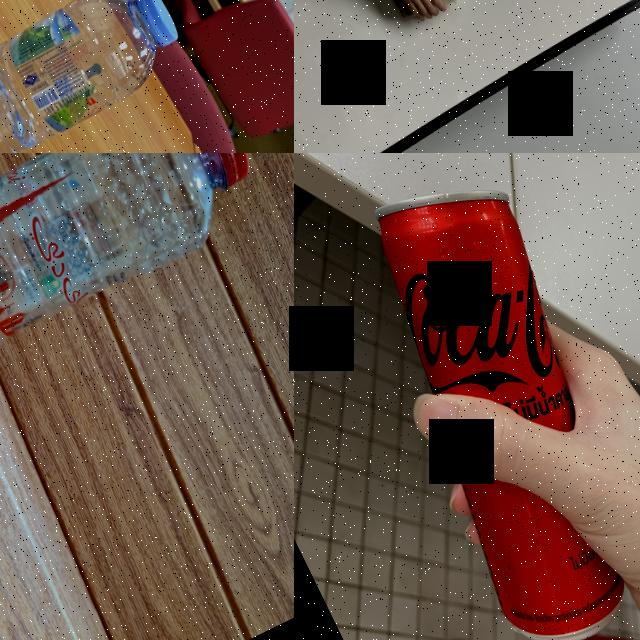bottle: (0, 153, 287, 413), (0, 0, 197, 153)
can: (311, 153, 640, 640)
cup: (380, 0, 461, 28)
